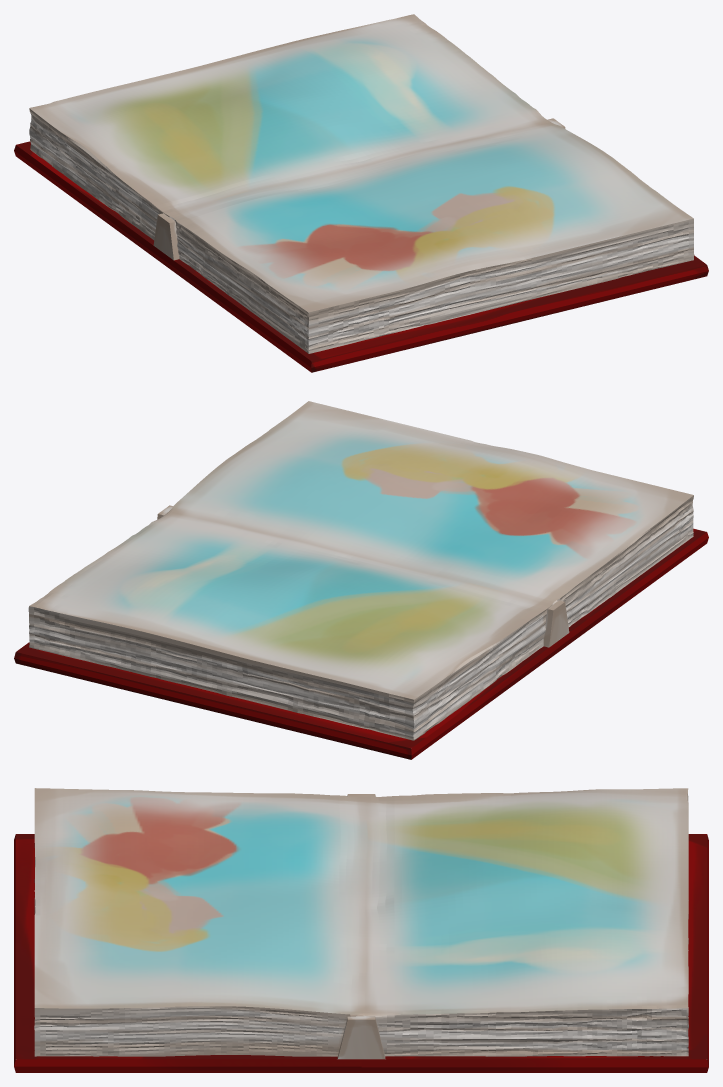
The model's file is OpenedBook.fbx.
3 renders of one model, top to bottom at view 1: azimuth 30°, elevation 25°; view 2: azimuth 150°, elevation 25°; view 3: azimuth 270°, elevation 25°, orthographic. The views are drawn at different scales.
Parts seen in each view (by area): view 1: OpenedBook; view 2: OpenedBook; view 3: OpenedBook.
Boxes of the visible parts, left/top/right/bottom form: OpenedBook: left=14, top=14, right=708, bottom=372; OpenedBook: left=14, top=401, right=708, bottom=759; OpenedBook: left=14, top=788, right=708, bottom=1072.
Size of the model in its own units: 55.33 by 8.28 by 71.66.
2 materials, 2 textured.
